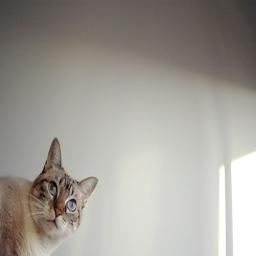catnose: (53, 206, 63, 218)
